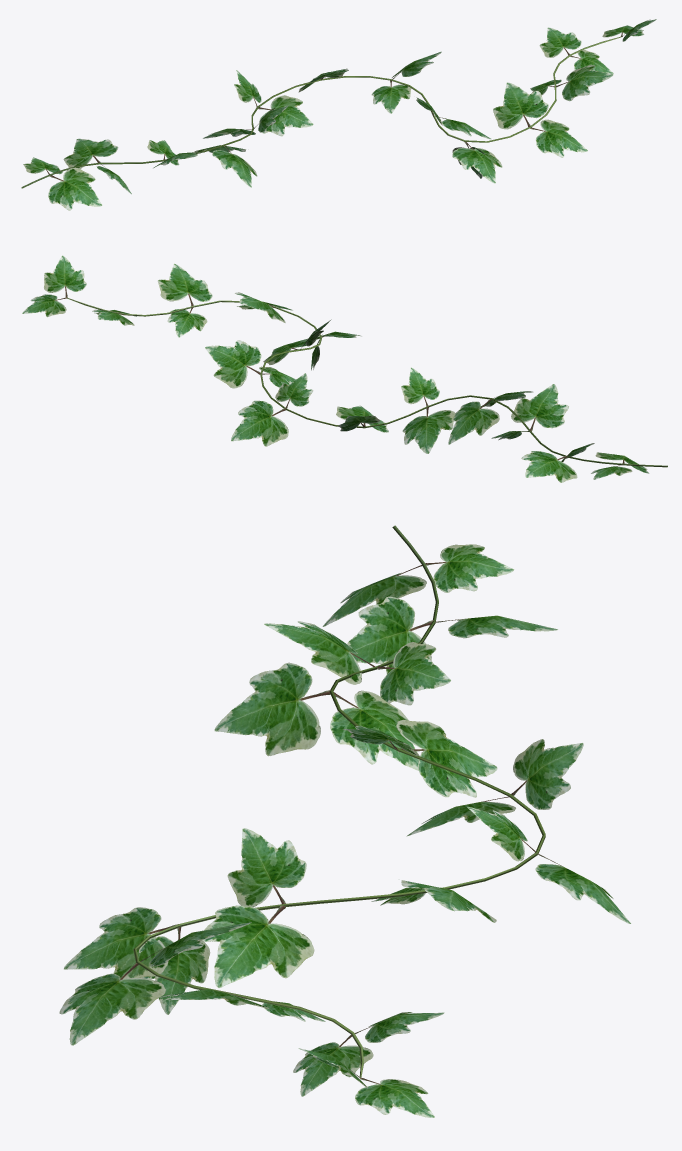
The model's file is Ivy_Line_02.FBX.
3 views of the same model, one above another, from view 1: azimuth 30°, elevation 25°; view 2: azimuth 150°, elevation 25°; view 3: azimuth 270°, elevation 25° (orthographic). The views are drawn at different scales.
Parts seen in each view (by area): view 1: Ivy_Line_02; view 2: Ivy_Line_02; view 3: Ivy_Line_02.
Part boxes in pixels (x1=…): Ivy_Line_02: x1=21, y1=19, x2=656, y2=210; Ivy_Line_02: x1=22, y1=255, x2=667, y2=482; Ivy_Line_02: x1=59, y1=525, x2=630, y2=1117.
Bounding box in the file's own units: 3.55 × 0.4899 × 1.5.
